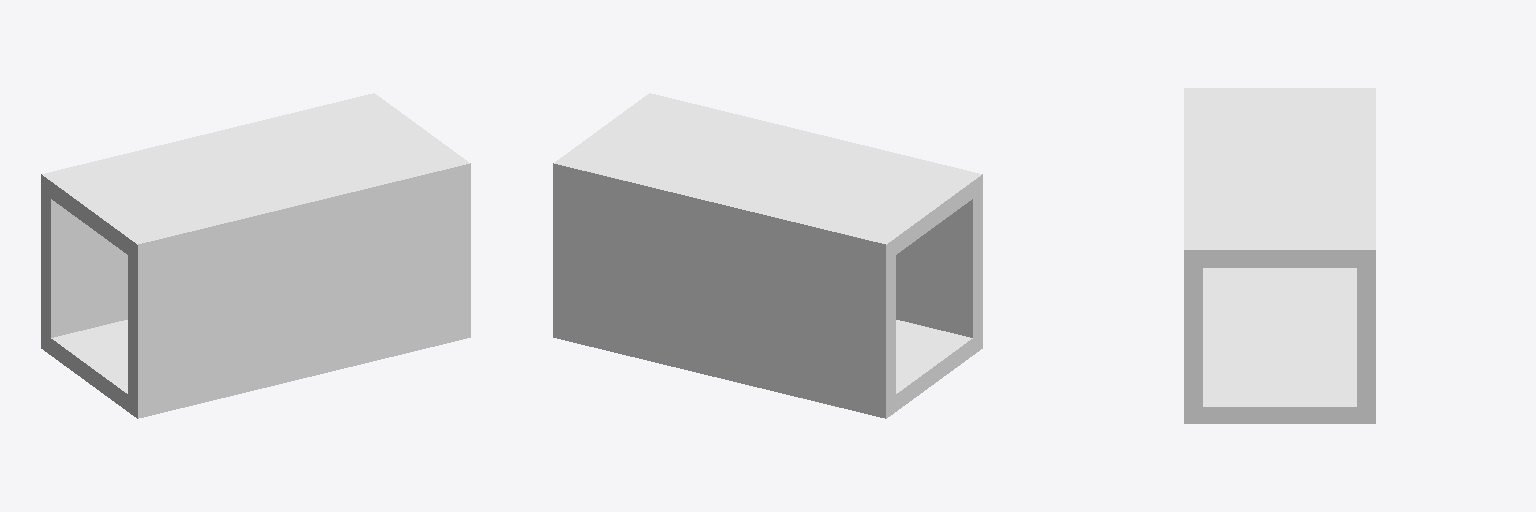
The model's file is log_small.obj.
3 views of the same model, side by side, from view 1: azimuth 30°, elevation 25°; view 2: azimuth 150°, elevation 25°; view 3: azimuth 270°, elevation 25° (orthographic).
Parts seen in each view (by area): view 1: object 1; view 2: object 1; view 3: object 1.
Boxes of the visible parts, x1,y1,x2,y2 form: object 1: [41, 93, 470, 418]; object 1: [553, 93, 982, 418]; object 1: [1184, 88, 1375, 423].
Bounding box in the file's own units: 8 × 4 × 4.